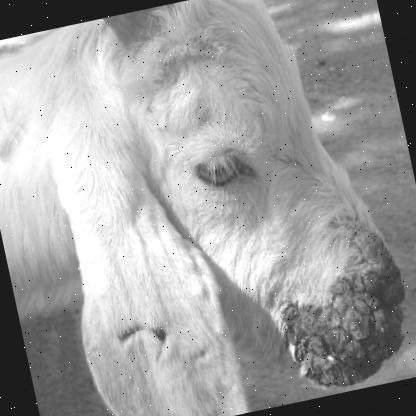ppr: (271, 296, 406, 397)
